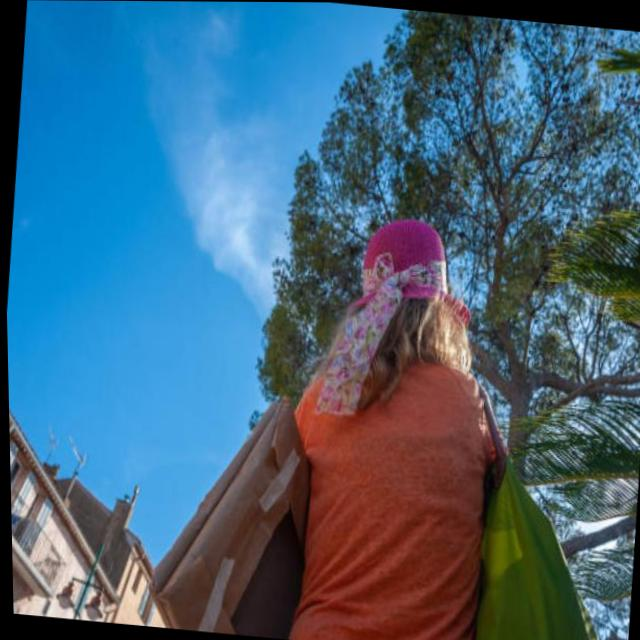no helmet: (320, 189, 494, 369)
